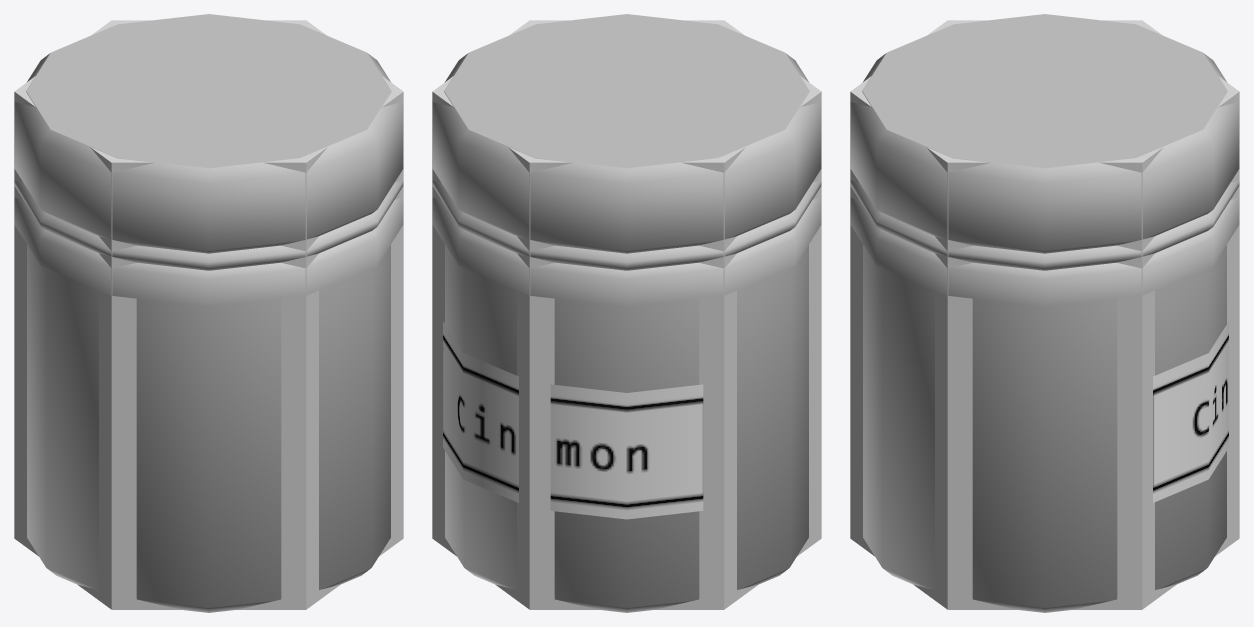
Rendered from Powder_Cinamon.fbx.
The picture shows the model from 3 angles, left to right: view 1: azimuth 30°, elevation 25°; view 2: azimuth 150°, elevation 25°; view 3: azimuth 270°, elevation 25°; orthographic projection.
Parts seen in each view (by area): view 1: Powder, Colision_Powder; view 2: Powder, Colision_Powder; view 3: Powder, Colision_Powder.
Part boxes in pixels (bbox=[...]): Powder: bbox=[14, 14, 403, 612]; Colision_Powder: bbox=[14, 20, 403, 609]; Powder: bbox=[432, 14, 821, 612]; Colision_Powder: bbox=[432, 20, 821, 609]; Powder: bbox=[850, 14, 1239, 612]; Colision_Powder: bbox=[850, 20, 1239, 609].
Size of the model in its own units: 0.0676 by 0.0676 by 0.0858.
